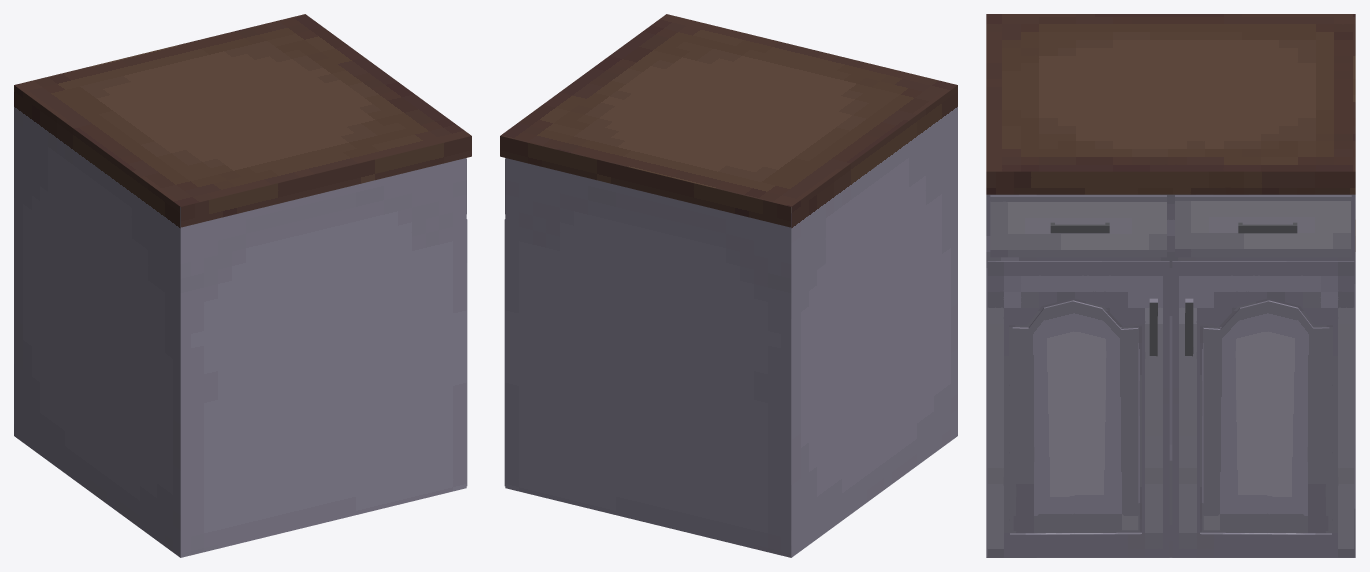
The model's file is Counter1.fbx.
3 renders of one model, left to right at view 1: azimuth 30°, elevation 25°; view 2: azimuth 150°, elevation 25°; view 3: azimuth 270°, elevation 25°, orthographic. The views are drawn at different scales.
Parts seen in each view (by area): view 1: Cube.001; view 2: Cube.001; view 3: Cube.001.
Part boxes in pixels (x1=…): Cube.001: x1=14, y1=14, x2=471, y2=557; Cube.001: x1=500, y1=14, x2=957, y2=557; Cube.001: x1=986, y1=14, x2=1355, y2=557.
Bounding box in the file's own units: 258 × 294 × 253.
1 material, 1 textured.
